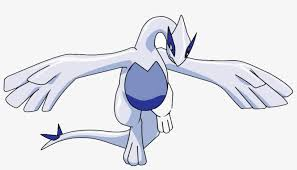lugia: (166, 15, 197, 68)
